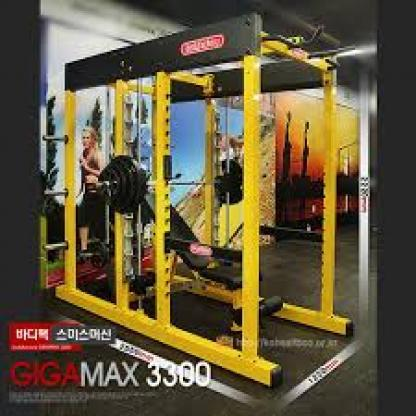smith machine: (55, 14, 355, 322)
